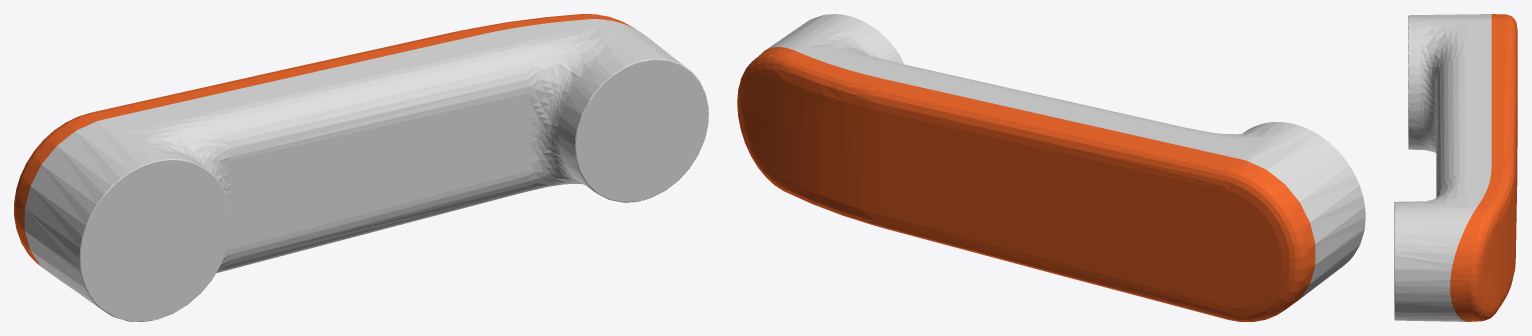
3 renders of one model, left to right at view 1: azimuth 30°, elevation 25°; view 2: azimuth 150°, elevation 25°; view 3: azimuth 270°, elevation 25°, orthographic. The views are drawn at different scales.
Visible parts, largest first — view 1: 18; view 2: 18; view 3: 18.
Part boxes in pixels (x1=…): 18: x1=14, y1=14, x2=708, y2=321; 18: x1=737, y1=14, x2=1365, y2=321; 18: x1=1394, y1=14, x2=1517, y2=321.
Size of the model in its own units: 0.339 by 0.0845 by 0.0757.
